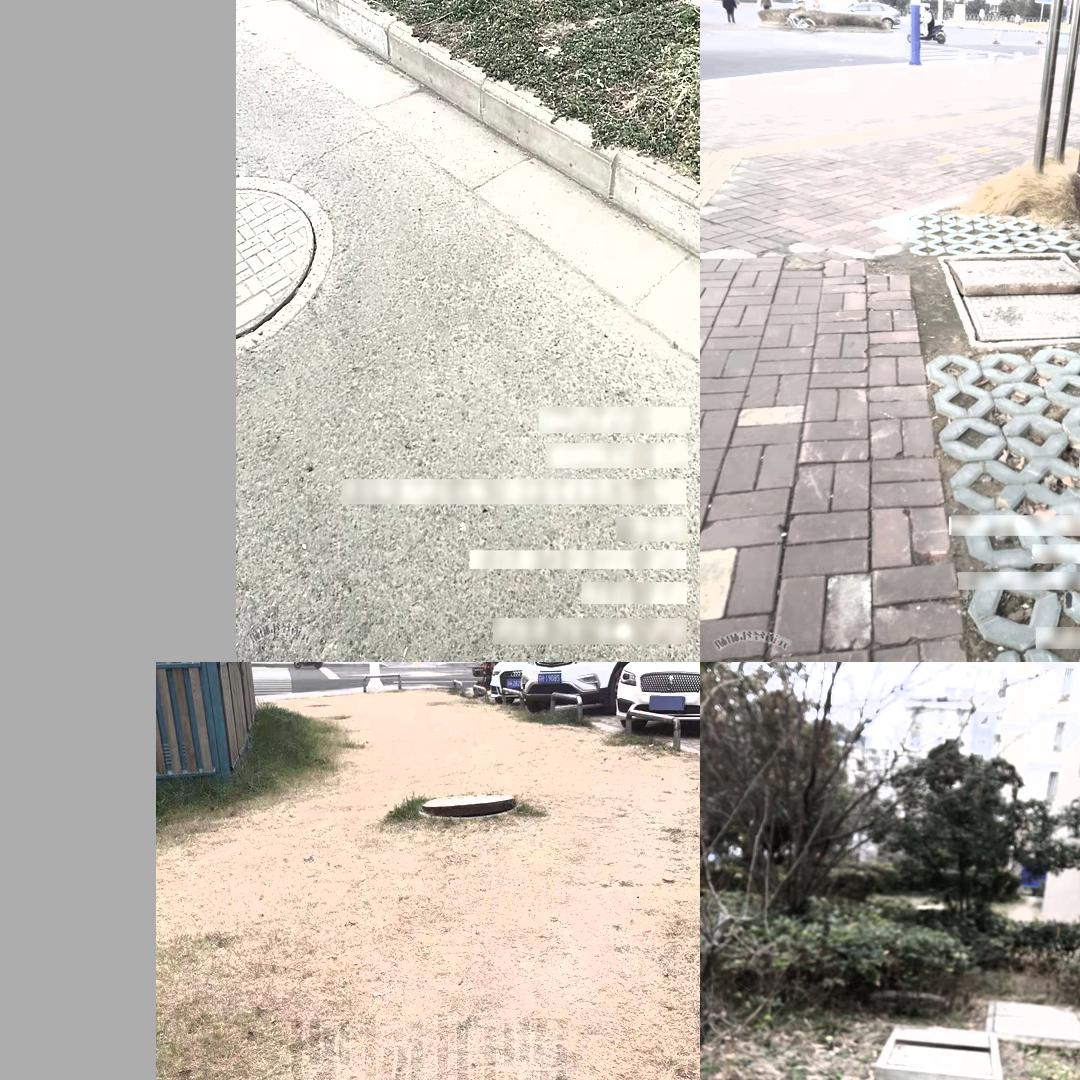good: (236, 179, 332, 360), (984, 995, 1080, 1052)
uncovered: (931, 223, 1080, 301), (873, 1022, 1003, 1080), (414, 782, 525, 826)
